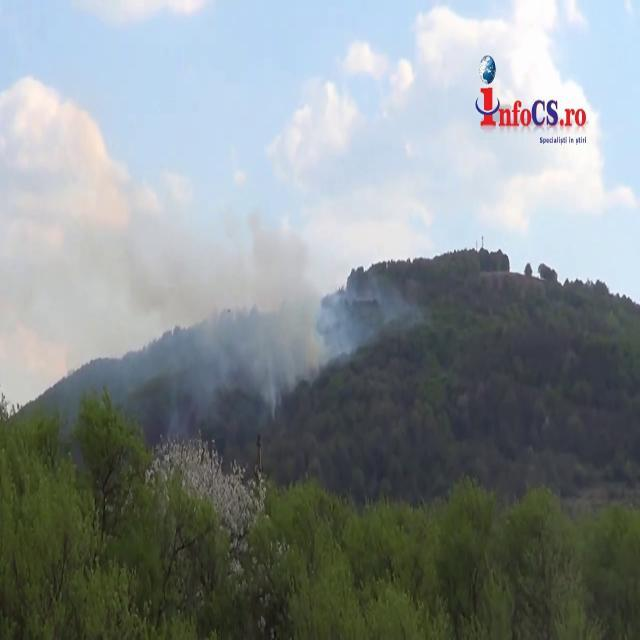Smoke: (0, 126, 342, 417), (186, 170, 336, 414)
